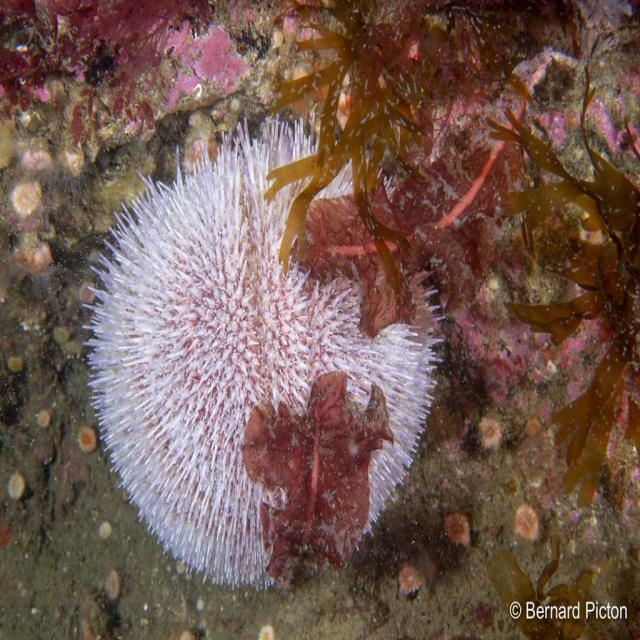Deniz Kestanesi: (82, 115, 442, 589)
